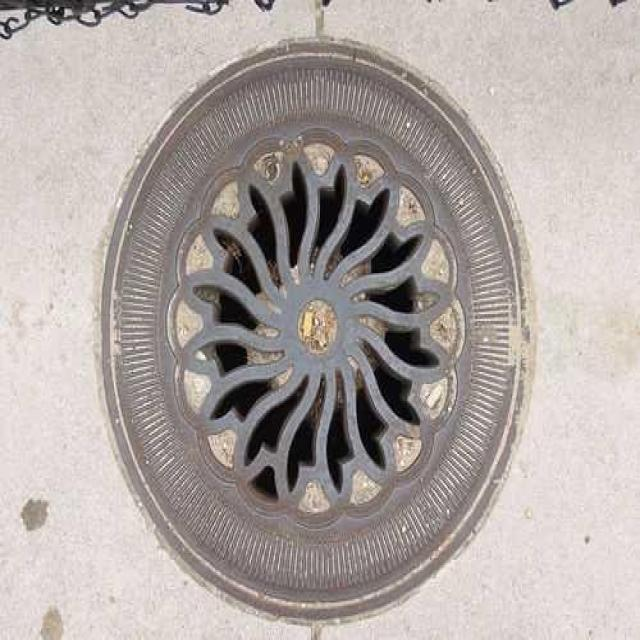manhole: (102, 42, 530, 619)
